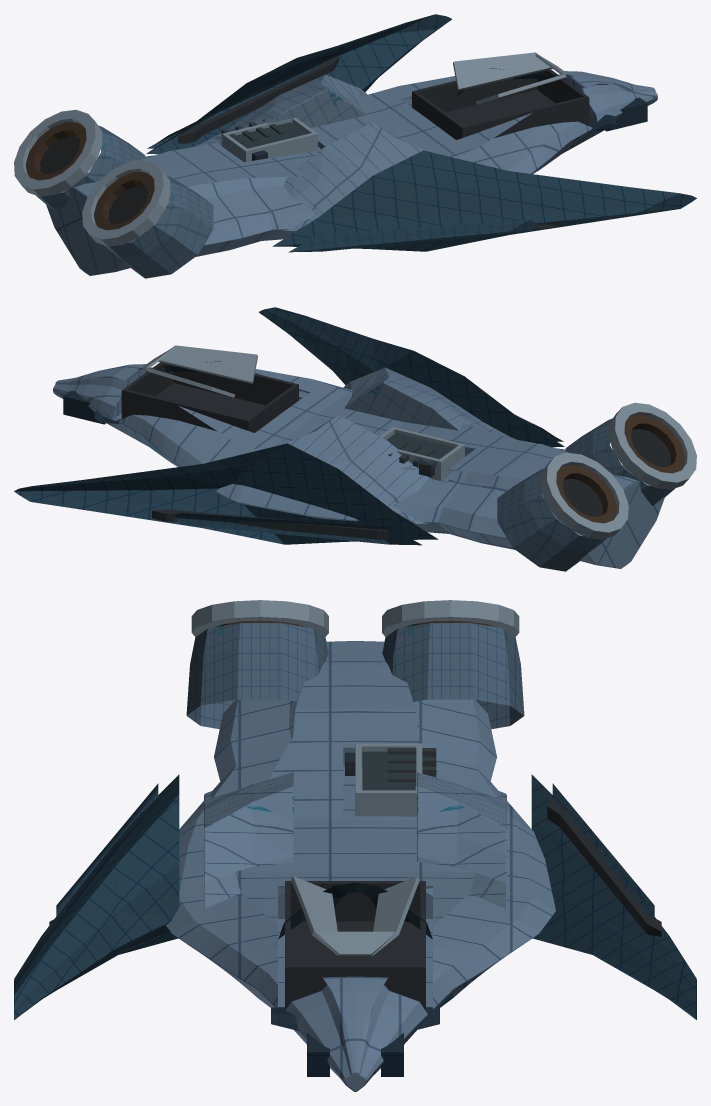
The model's file is hornet_production_v1_lod1.glb.
The picture shows the model from 3 angles, top to bottom: view 1: azimuth 30°, elevation 25°; view 2: azimuth 150°, elevation 25°; view 3: azimuth 270°, elevation 25°; orthographic projection. The views are drawn at different scales.
Parts seen in each view (by area): view 1: LOD1_Hull, Wing_Port.001, Wing_Stbd.001, Wing_Port_RootFairing.001, DriveHouse_Port.001, Wing_Stbd_RootFairing.001, Wing_Port_Flap.001, DriveFlange_Stbd.001, DriveFlange_Port.001, CanopyFrame_Stbd.001, CanopyTub_C192_Port.001, Wing_Stbd_FlapSlot.001 (+14 smaller); view 2: LOD1_Hull, Wing_Stbd.001, Wing_Port.001, Wing_Stbd_RootFairing.001, DriveHouse_Stbd.001, Wing_Port_RootFairing.001, DriveFlange_Port.001, DriveFlange_Stbd.001, Wing_Stbd_Flap.001, CanopyFrame_Port.001, CanopyTub_C192_Stbd.001, CanopyTub_C192_Port.001 (+13 smaller); view 3: LOD1_Hull, Wing_Port.001, Wing_Stbd.001, DriveHouse_Port.001, DriveHouse_Stbd.001, Wing_Port_RootFairing.001, Wing_Stbd_RootFairing.001, CanopyTub_C192_Floor.001, CanopyTub_C192_Fore.001, DriveFlange_Port.001, DriveFlange_Stbd.001, Wing_Stbd_FlapSlot.001 (+11 smaller).
Boxes of the visible parts, x1,y1,x2,y2 form: LOD1_Hull: (46,71,657,275); Wing_Port.001: (272,150,696,251); Wing_Stbd.001: (146,14,451,154); Wing_Port_RootFairing.001: (282,122,428,231); DriveHouse_Port.001: (104,175,213,278); Wing_Stbd_RootFairing.001: (203,74,367,145); Wing_Port_Flap.001: (288,220,537,252); DriveFlange_Stbd.001: (14,109,102,196); DriveFlange_Port.001: (82,159,170,246); CanopyFrame_Stbd.001: (453,52,552,90); CanopyTub_C192_Port.001: (464,96,585,138); Wing_Stbd_FlapSlot.001: (177,57,339,143); LOD1_Hull: (53,364,664,568); Wing_Stbd.001: (14,443,438,544); Wing_Port.001: (259,307,564,447); Wing_Stbd_RootFairing.001: (282,415,429,524); DriveHouse_Stbd.001: (497,468,606,571); Wing_Port_RootFairing.001: (343,367,507,435); DriveFlange_Port.001: (608,402,696,489); DriveFlange_Stbd.001: (540,452,628,539); Wing_Stbd_Flap.001: (175,513,422,545); CanopyFrame_Port.001: (158,345,257,383); CanopyTub_C192_Stbd.001: (125,389,246,431); CanopyTub_C192_Port.001: (173,371,294,405); LOD1_Hull: (165,641,555,1091); Wing_Port.001: (14,774,179,1019); Wing_Stbd.001: (531,774,696,1019); DriveHouse_Port.001: (186,623,328,729); DriveHouse_Stbd.001: (382,623,524,729); Wing_Port_RootFairing.001: (204,772,293,908); Wing_Stbd_RootFairing.001: (417,772,506,908); CanopyTub_C192_Floor.001: (285,921,425,1009); CanopyTub_C192_Fore.001: (285,965,425,1009); DriveFlange_Port.001: (191,600,328,636); DriveFlange_Stbd.001: (382,600,519,636); Wing_Stbd_FlapSlot.001: (547,794,661,936).
Size of what is drawn, in the model's own units: 10.95 by 2.27 by 7.76.
Materials: 11 (7 with a texture image).
